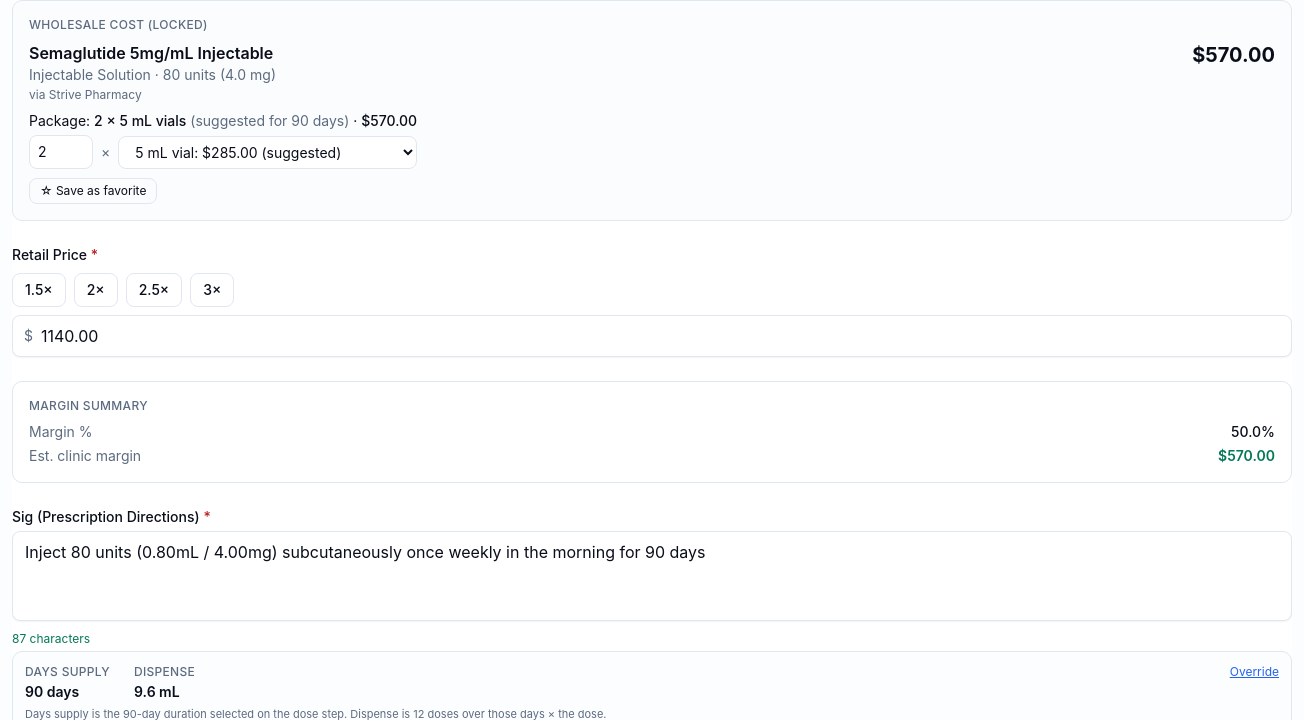
Test: MarginBuilderForm — WO-101a package count › changing the count recomputes wholesale, retail, fee and margin
This screenshot has width=1304, height=720.
Replace the text in the number field named "Number of packages" with "3" at (61, 152), box [29,135,93,169]
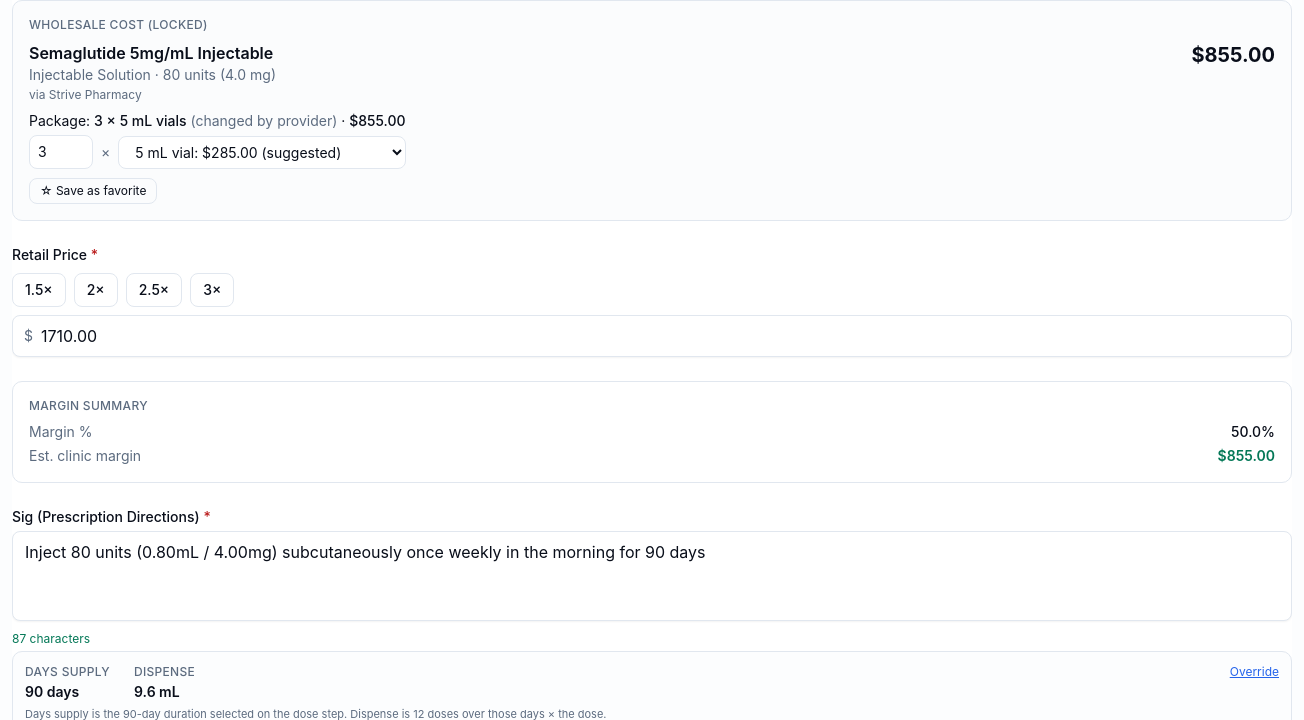
Check: the element with test id "package-summary" reads "Package: 3 × 5 mL vials (changed by provider) · $855.00", box [29,111,406,131]
Check: the number field labelled "Retail Price *" holds "1710", box [12,315,1292,357]
Check: the text "$855.00" is shown, box [349,112,406,129]
